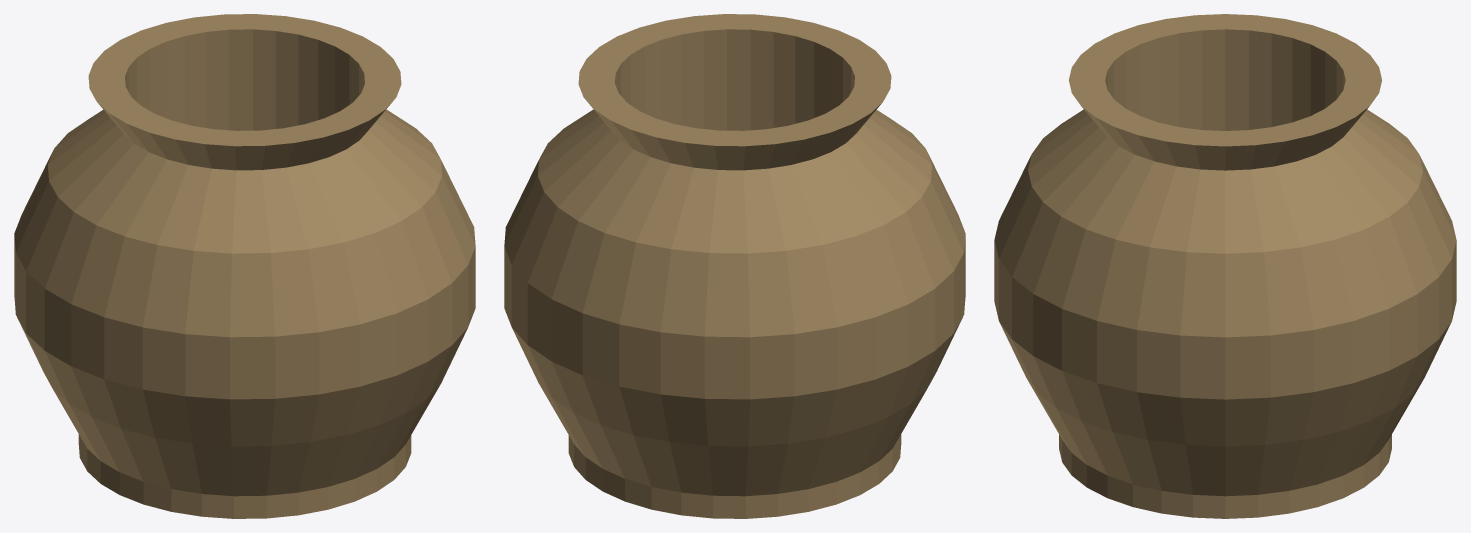
File: Vase_1.glb
The picture shows the model from 3 angles, left to right: view 1: azimuth 30°, elevation 25°; view 2: azimuth 150°, elevation 25°; view 3: azimuth 270°, elevation 25°; orthographic projection.
Parts seen in each view (by area): view 1: vase_1.001; view 2: vase_1.001; view 3: vase_1.001.
Boxes of the visible parts, x1,y1,x2,y2 form: vase_1.001: (14, 14, 475, 518); vase_1.001: (504, 14, 965, 518); vase_1.001: (994, 14, 1456, 518).
Bounding box in the file's own units: 0.9296 × 0.8178 × 0.9296.
